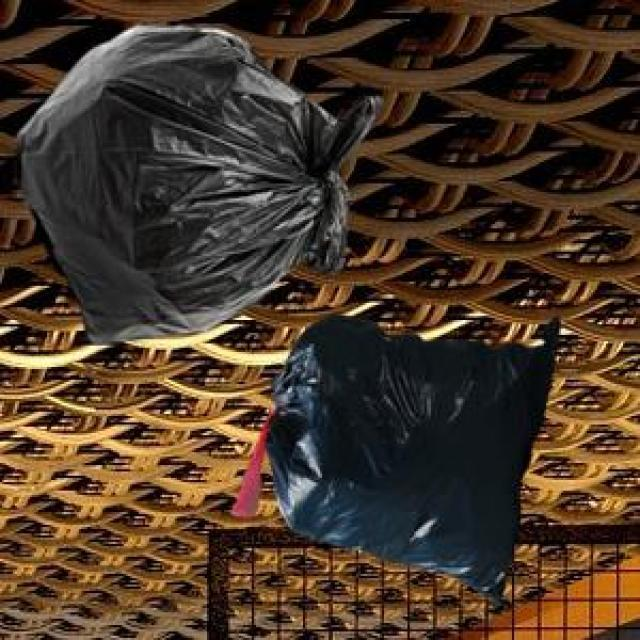Trashbag: (10, 18, 384, 349), (259, 304, 566, 615)
